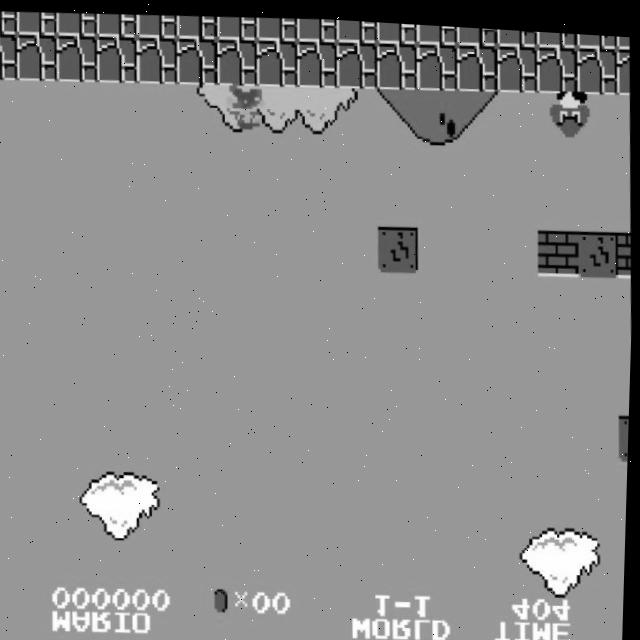1- brick_block: (537, 222, 581, 271), (617, 223, 633, 270)
11- little_mario: (223, 78, 269, 130)
13- mystery_block: (377, 220, 421, 269), (577, 222, 621, 271), (619, 407, 631, 453)
17- undestructible_block: (15, 32, 59, 81), (55, 33, 99, 82), (95, 33, 139, 82), (135, 34, 179, 83), (175, 34, 219, 83), (215, 35, 259, 84), (255, 35, 299, 84), (295, 36, 339, 85), (335, 36, 379, 85), (375, 37, 419, 86), (415, 37, 459, 86), (455, 38, 499, 87), (495, 38, 539, 87), (535, 38, 579, 87), (575, 39, 619, 88), (15, 10, 58, 36), (55, 11, 98, 37), (95, 11, 138, 37), (135, 11, 178, 37), (175, 12, 218, 38), (215, 12, 258, 38), (255, 13, 298, 39), (294, 14, 337, 39), (334, 16, 377, 40), (375, 17, 417, 39), (415, 19, 457, 40), (0, 33, 18, 81), (455, 21, 497, 41), (495, 23, 537, 41), (615, 40, 631, 87), (535, 25, 577, 42), (575, 27, 617, 42), (0, 10, 18, 35), (615, 29, 629, 41)
8- goomba: (546, 82, 592, 134)
